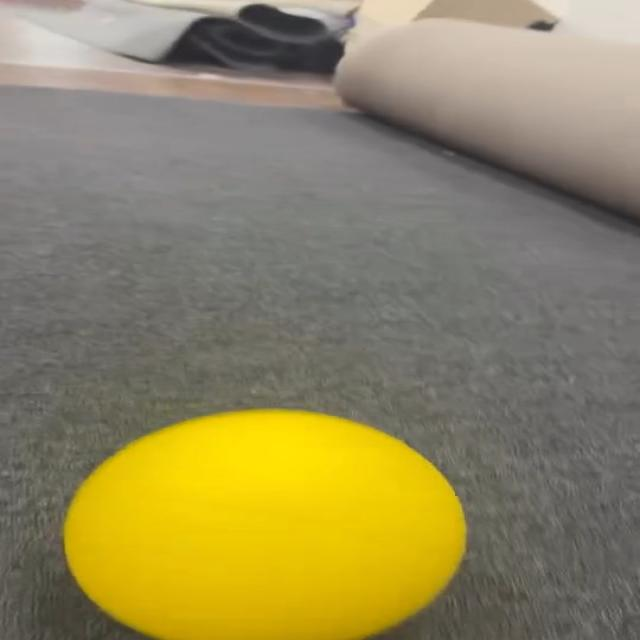Fuels: (61, 408, 461, 636)
